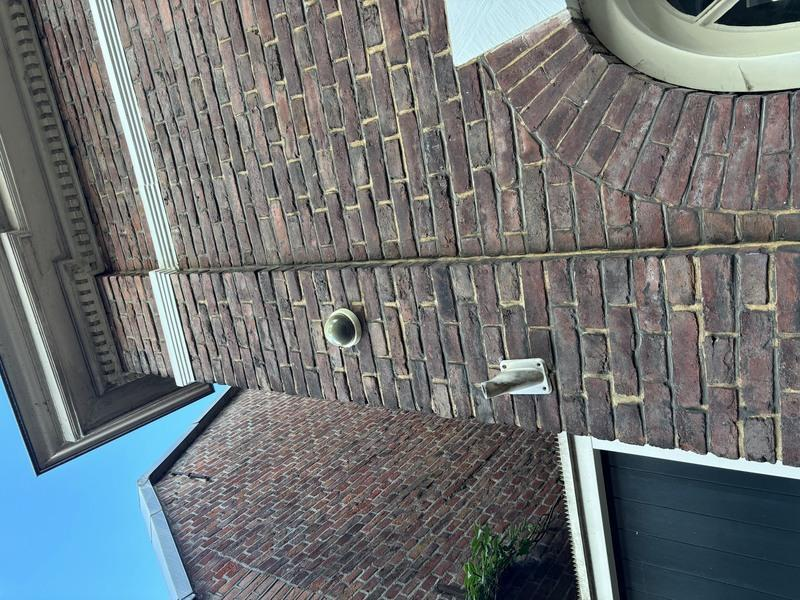dome: (245, 323, 295, 360)
